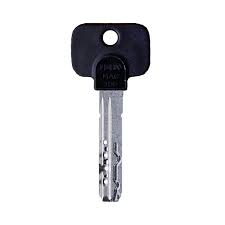kicharina: (68, 20, 155, 202)
